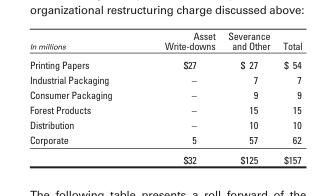table: (28, 28, 301, 165)
table column: (28, 28, 137, 165), (137, 28, 221, 165), (221, 28, 275, 165), (275, 28, 301, 165)
table column header: (28, 28, 301, 54)
table row: (28, 28, 301, 54), (28, 131, 301, 149), (28, 54, 301, 71), (28, 149, 301, 165), (28, 71, 301, 86), (28, 86, 301, 101), (28, 101, 301, 116), (28, 116, 301, 131)
